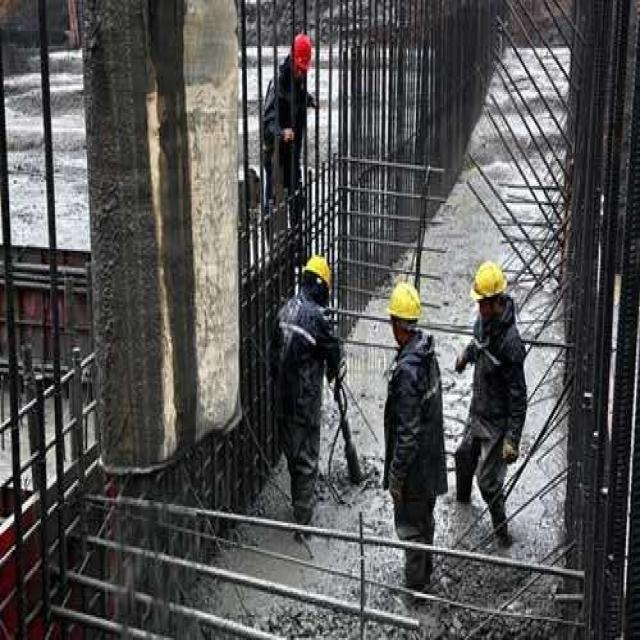Con_Casco: (470, 260, 508, 323), (389, 280, 420, 340), (301, 254, 333, 303)
